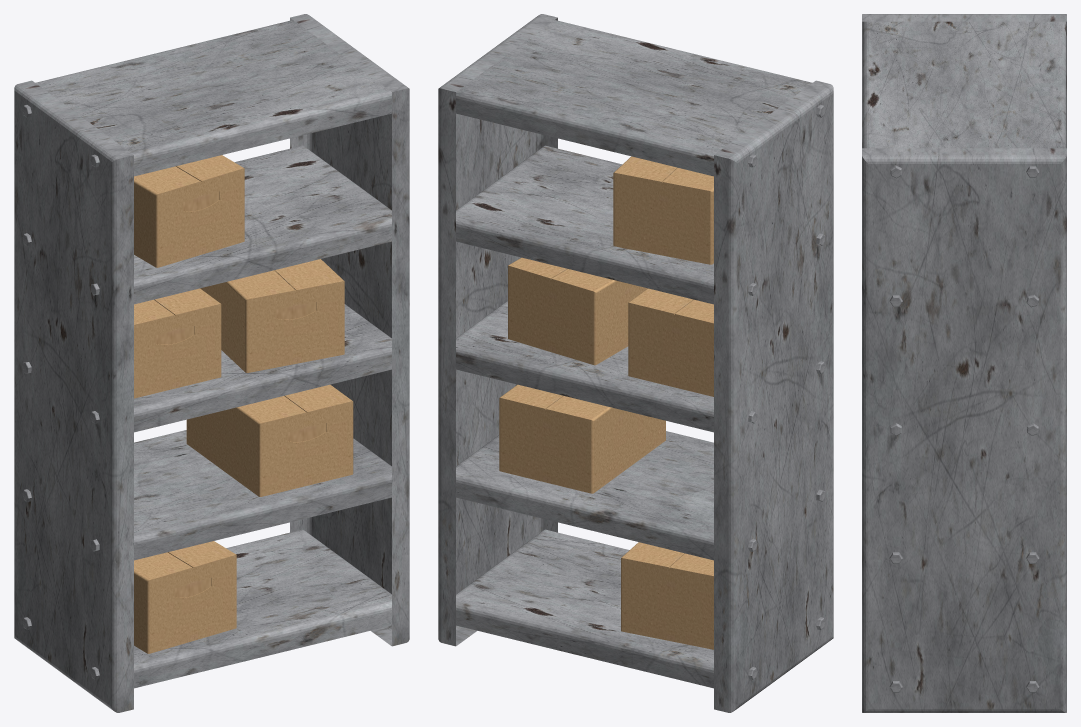
The model's file is StorageShelf.glb.
3 renders of one model, left to right at view 1: azimuth 30°, elevation 25°; view 2: azimuth 150°, elevation 25°; view 3: azimuth 270°, elevation 25°, orthographic.
Parts seen in each view (by area): view 1: Material2 (×14); view 2: Material2 (×14); view 3: Material2 (×3).
Part boxes in pixels (x1,y1,x2,y2): Material2 (×14): [14, 14, 409, 712]; Material2 (×14): [438, 14, 833, 712]; Material2 (×3): [862, 14, 1066, 712].
Bounding box in the file's own units: 41.56 × 72 × 24.
Materials: 3 (2 with a texture image).
